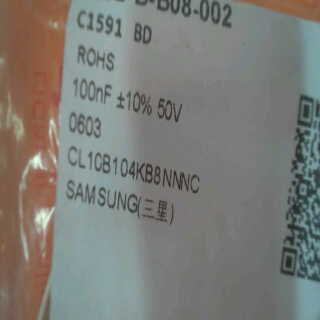100nF: (69, 75, 117, 108)
